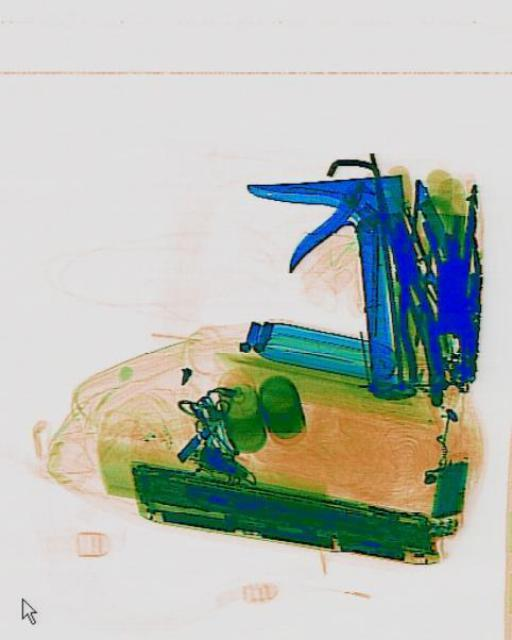Knife: (243, 168, 418, 412)
Pliers: (378, 214, 443, 380)
